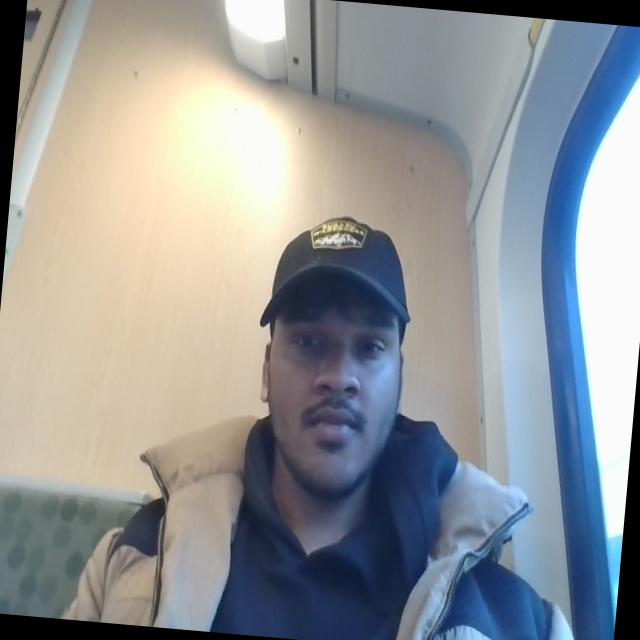hat: (251, 208, 424, 343)
